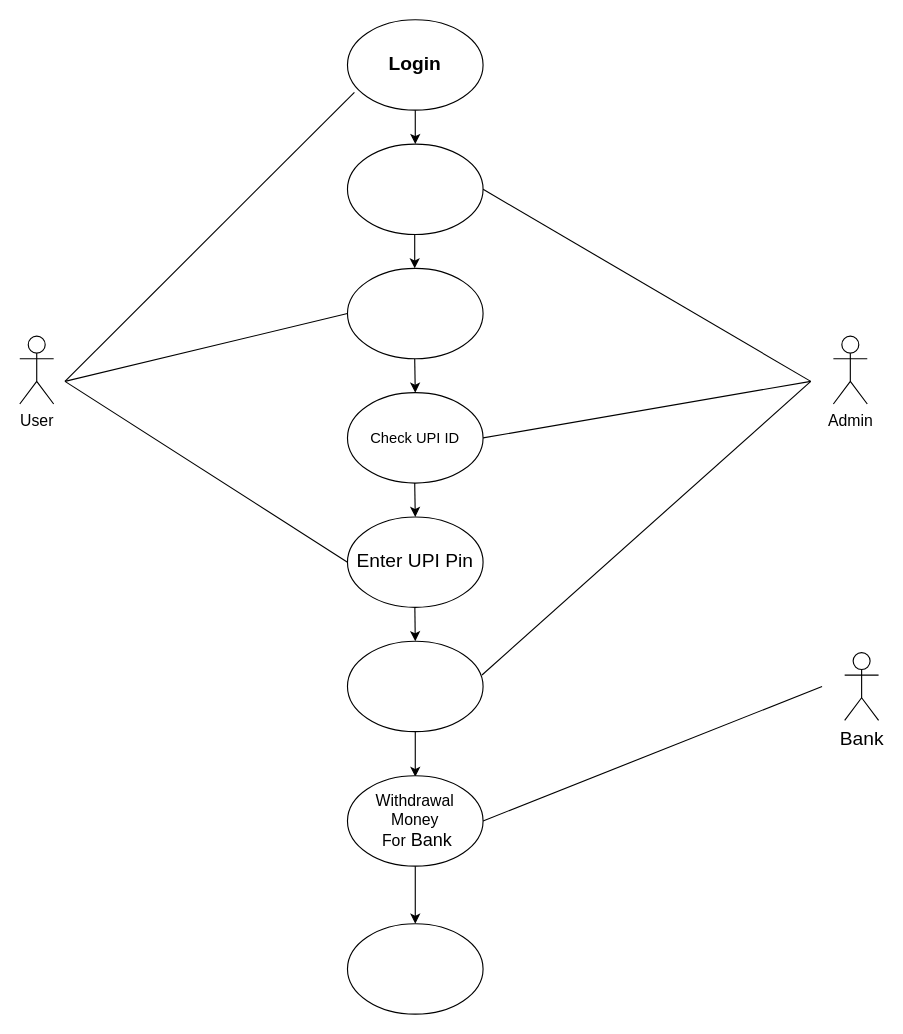
The diagram is 903 pixels wide and 1034 high, and some of its shapes have lost their labels. Each missing label, with the centre of its shape:
Check Password: pixel 414 188
Check UPI Pin: pixel 414 686
End: pixel 414 968
Enter UPI id,MobileNumber,QR Code: pixel 414 313
